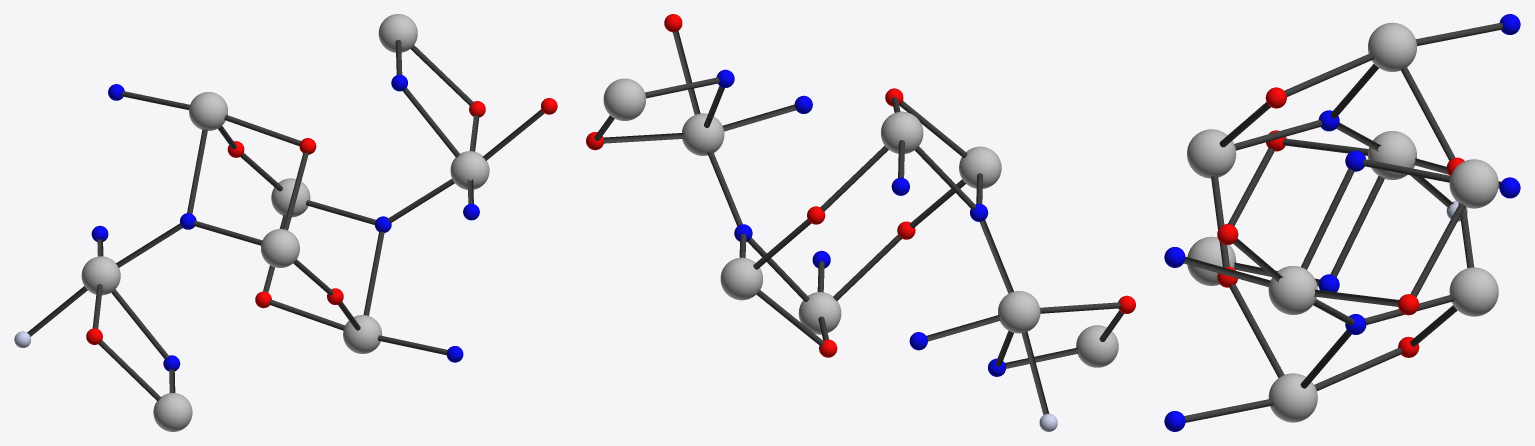
The model's file is brookite-tio2.glb.
3 views of the same model, side by side, from view 1: azimuth 30°, elevation 25°; view 2: azimuth 150°, elevation 25°; view 3: azimuth 270°, elevation 25° (orthographic). The views are drawn at different scales.
Parts seen in each view (by area): view 1: Surface-Sweep3 - Part, Surface-Sweep1 - Part 2, Sketch-Pattern3[1] - Part, Sketch-Pattern3[8] - Part, Sketch-Pattern3[3] - Part, Sketch-Pattern3[7] - Part, Surface-Sweep3 - Part 2, Sketch-Pattern3[2] - Part, Sketch-Pattern3[5] - Part, Sketch-Pattern3[6] - Part, Surface-Revolve2 - Part, Surface-Sweep4 - Part (+5 smaller); view 2: Surface-Sweep3 - Part, Sketch-Pattern3[5] - Part, Sketch-Pattern3[7] - Part, Surface-Revolve2 - Part, Sketch-Pattern3[3] - Part, Sketch-Pattern3[1] - Part, Sketch-Pattern3[2] - Part, Sketch-Pattern3[8] - Part, Sketch-Pattern3[6] - Part, Surface-Sweep3 - Part 2, Surface-Sweep4 - Part, Surface-Sweep1 - Part (+5 smaller); view 3: Surface-Sweep3 - Part, Surface-Sweep1 - Part 2, Surface-Sweep4 - Part, Sketch-Pattern3[5] - Part, Surface-Revolve2 - Part, Sketch-Pattern3[3] - Part, Sketch-Pattern3[2] - Part, Sketch-Pattern3[6] - Part, Sketch-Pattern3[8] - Part, Surface-Sweep3 - Part 2, Sketch-Pattern3[7] - Part, Surface-Sweep6 - Part (+16 smaller).
Part boxes in pixels (x1=…): Surface-Sweep3 - Part: x1=187, y1=125, x2=454, y2=315; Surface-Sweep1 - Part 2: x1=122, y1=91, x2=308, y2=245; Sketch-Pattern3[1] - Part: x1=153, y1=393, x2=192, y2=431; Sketch-Pattern3[8] - Part: x1=261, y1=229, x2=299, y2=267; Sketch-Pattern3[3] - Part: x1=189, y1=92, x2=227, y2=130; Sketch-Pattern3[7] - Part: x1=81, y1=256, x2=120, y2=295; Surface-Sweep3 - Part 2: x1=263, y1=109, x2=544, y2=330; Sketch-Pattern3[2] - Part: x1=450, y1=151, x2=489, y2=189; Sketch-Pattern3[5] - Part: x1=378, y1=14, x2=417, y2=52; Sketch-Pattern3[6] - Part: x1=343, y1=315, x2=382, y2=353; Surface-Revolve2 - Part: x1=271, y1=178, x2=310, y2=217; Surface-Sweep4 - Part: x1=293, y1=259, x2=447, y2=355; Surface-Sweep3 - Part: x1=707, y1=145, x2=975, y2=301; Sketch-Pattern3[5] - Part: x1=603, y1=78, x2=645, y2=120; Sketch-Pattern3[7] - Part: x1=998, y1=291, x2=1040, y2=333; Surface-Revolve2 - Part: x1=720, y1=257, x2=762, y2=300; Sketch-Pattern3[3] - Part: x1=881, y1=111, x2=923, y2=153; Sketch-Pattern3[1] - Part: x1=1076, y1=325, x2=1118, y2=367; Sketch-Pattern3[2] - Part: x1=682, y1=113, x2=724, y2=155; Sketch-Pattern3[8] - Part: x1=959, y1=146, x2=1001, y2=188; Sketch-Pattern3[6] - Part: x1=798, y1=292, x2=841, y2=334; Surface-Sweep3 - Part 2: x1=672, y1=30, x2=828, y2=345; Surface-Sweep4 - Part: x1=817, y1=179, x2=965, y2=300; Surface-Sweep1 - Part: x1=979, y1=219, x2=1049, y2=414; Surface-Sweep3 - Part: x1=1300, y1=64, x2=1474, y2=388; Surface-Sweep1 - Part 2: x1=1219, y1=22, x2=1502, y2=150; Surface-Sweep4 - Part: x1=1184, y1=175, x2=1284, y2=422; Sketch-Pattern3[5] - Part: x1=1449, y1=159, x2=1498, y2=208; Surface-Revolve2 - Part: x1=1449, y1=267, x2=1498, y2=316; Sketch-Pattern3[3] - Part: x1=1368, y1=22, x2=1416, y2=71; Sketch-Pattern3[2] - Part: x1=1268, y1=266, x2=1317, y2=314; Sketch-Pattern3[6] - Part: x1=1268, y1=373, x2=1317, y2=422; Sketch-Pattern3[8] - Part: x1=1187, y1=129, x2=1236, y2=178; Surface-Sweep3 - Part 2: x1=1233, y1=238, x2=1457, y2=390; Sketch-Pattern3[7] - Part: x1=1368, y1=131, x2=1416, y2=179; Surface-Sweep6 - Part: x1=1363, y1=159, x2=1465, y2=297.
Bounding box in the file's own units: 0.2362 × 0.1293 × 0.1285.
